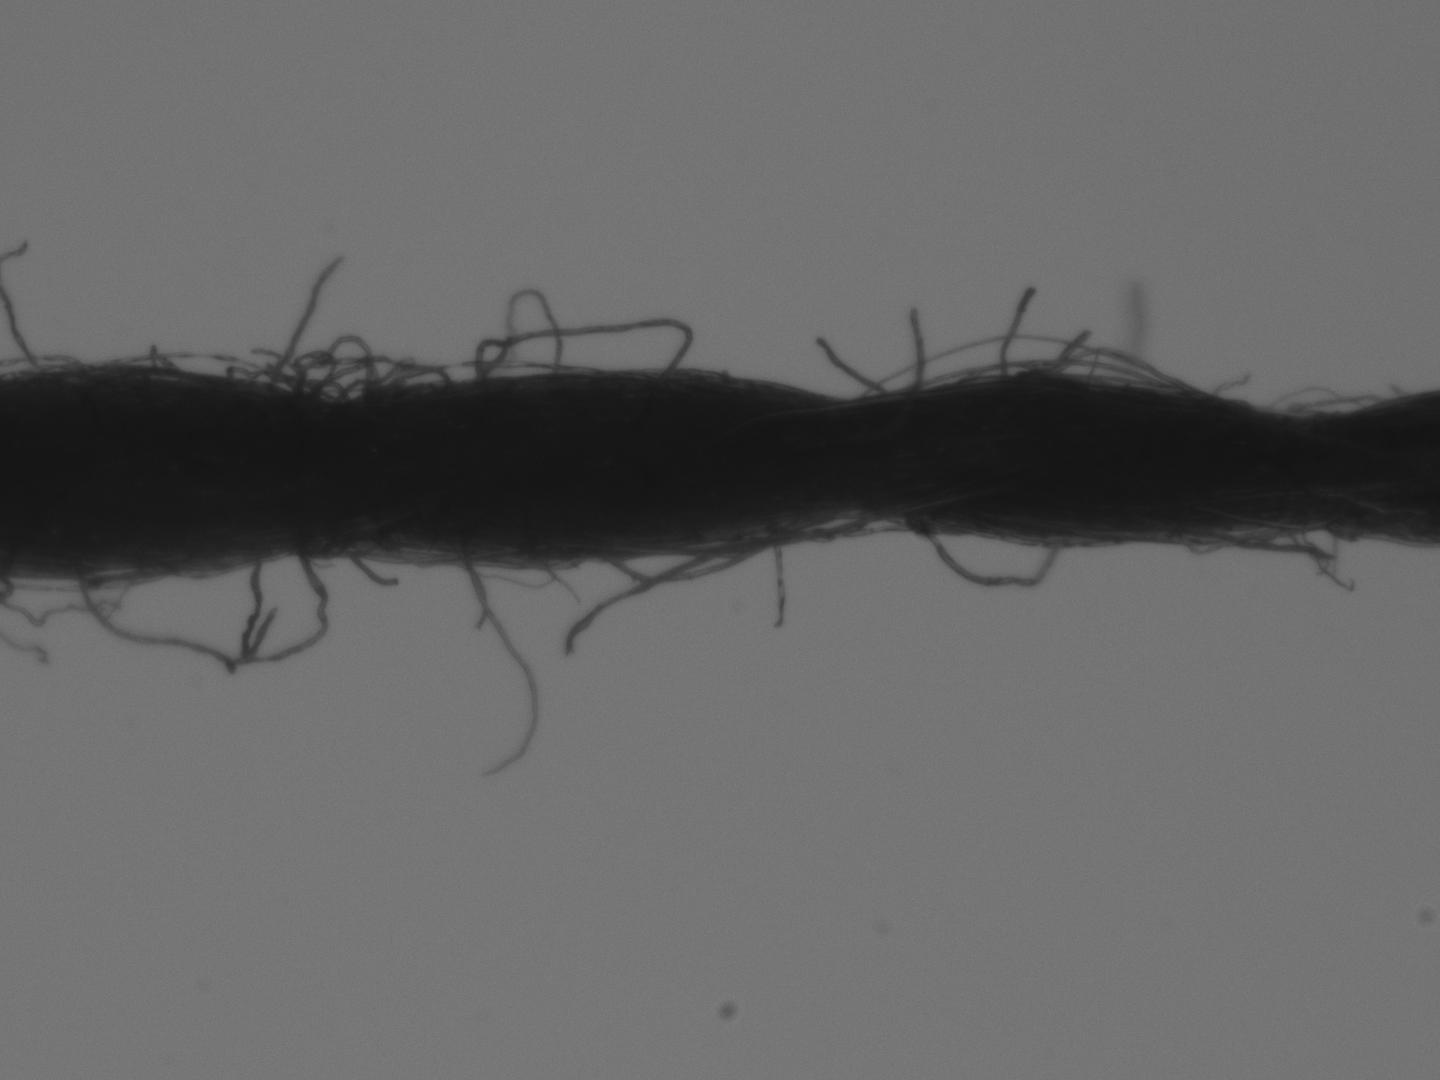loop_fiber: (73, 557, 328, 669), (863, 331, 1205, 399), (473, 319, 689, 386), (895, 515, 1057, 588), (914, 357, 1167, 398), (476, 288, 569, 385), (1047, 346, 1202, 396), (603, 541, 759, 583), (382, 360, 593, 390), (272, 360, 448, 393), (113, 348, 270, 385), (231, 363, 342, 397), (771, 514, 869, 545), (321, 365, 378, 395)
protruding_fiber: (559, 549, 729, 658), (466, 566, 540, 776), (273, 256, 340, 383), (238, 563, 285, 666), (997, 290, 1039, 386), (815, 339, 879, 396), (344, 554, 398, 589), (908, 310, 926, 391), (770, 537, 786, 627)
